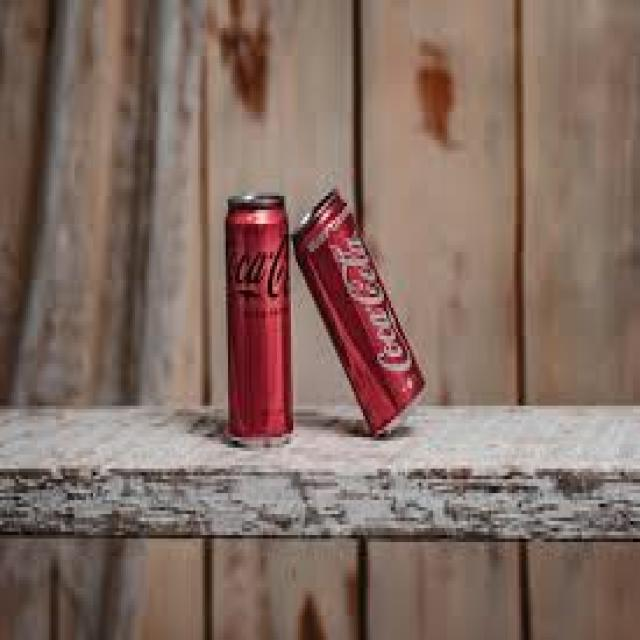Cans: (293, 182, 433, 444), (218, 189, 302, 451)
